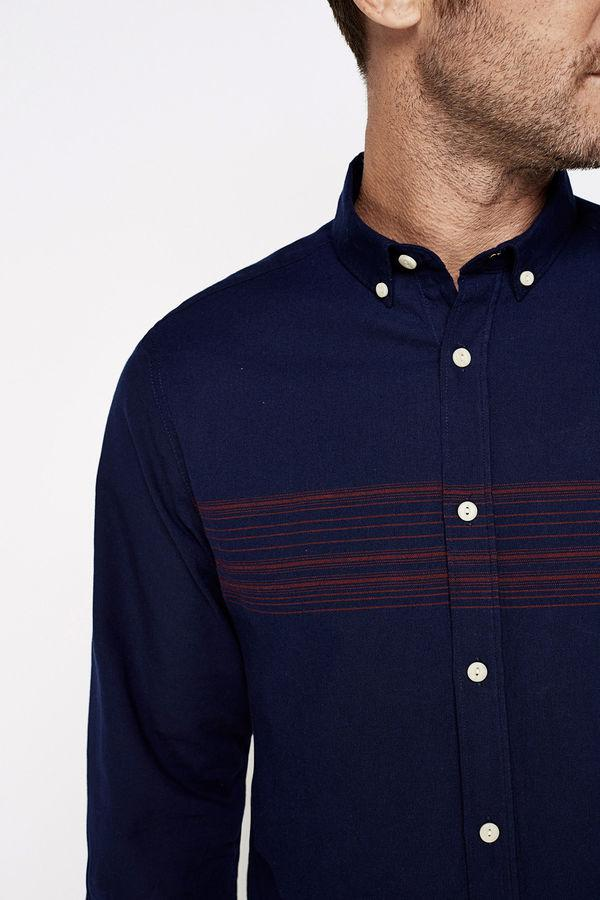teeshirt: (68, 128, 600, 887)
